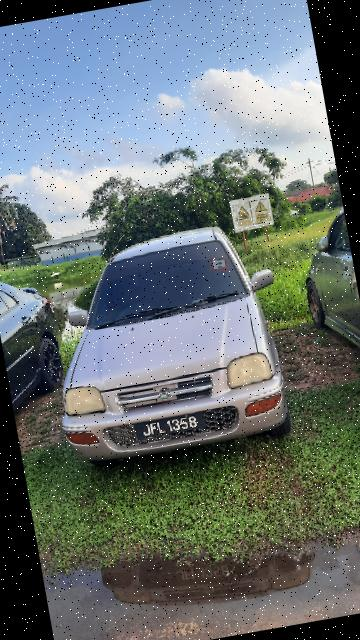License_Plate: (128, 403, 219, 451)
car: (35, 217, 304, 474)
